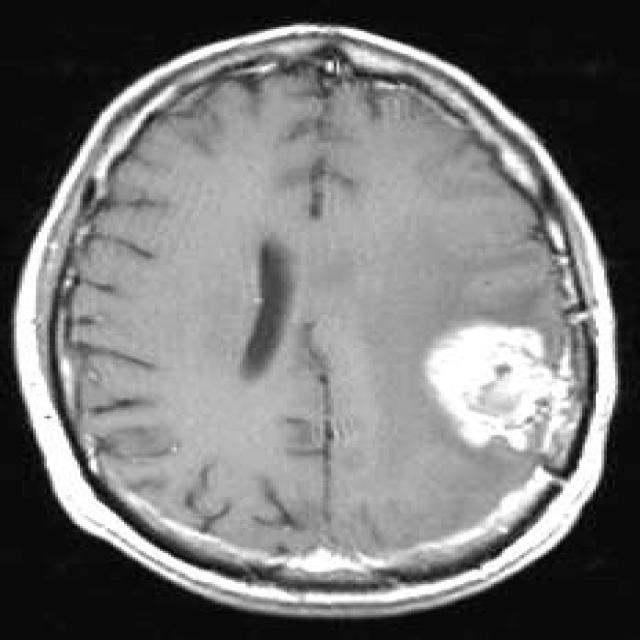Tumor-Cell: (435, 270, 562, 442)
